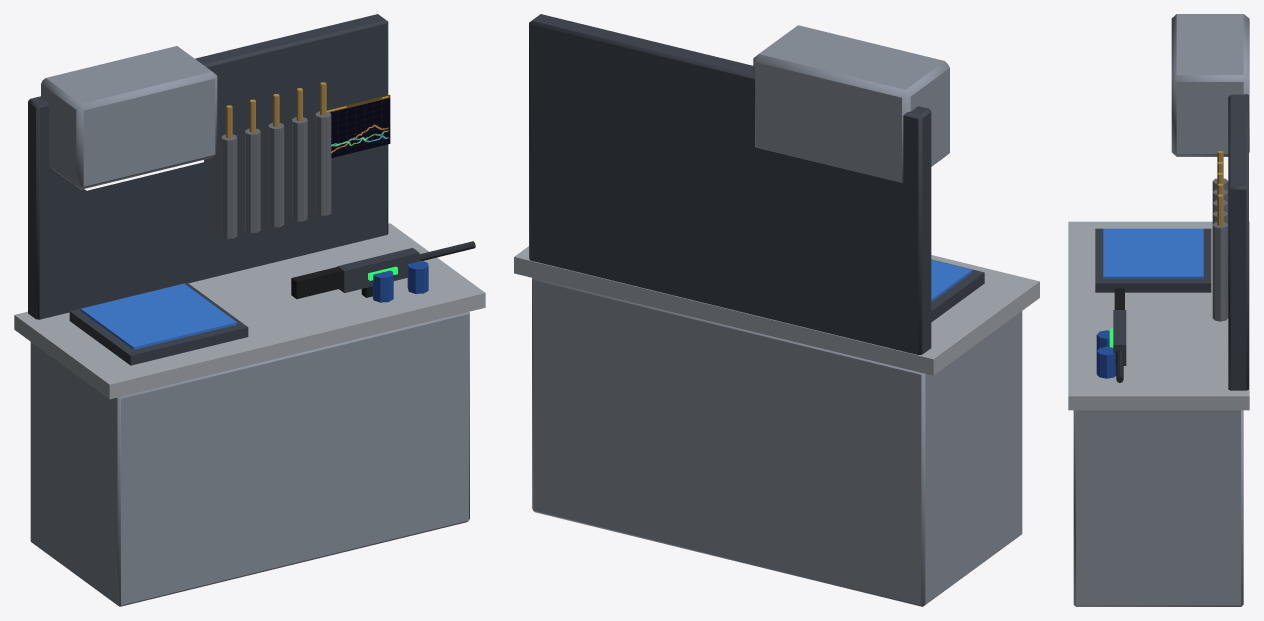
Rendered from weaponrack_gun_cleaning_station.glb.
3 renders of one model, left to right at view 1: azimuth 30°, elevation 25°; view 2: azimuth 150°, elevation 25°; view 3: azimuth 270°, elevation 25°, orthographic. The views are drawn at different scales.
Visible parts, largest first — view 1: weaponrack_gun_cleaning_station; view 2: weaponrack_gun_cleaning_station; view 3: weaponrack_gun_cleaning_station.
Part boxes in pixels (x1,y1,x2,y2): weaponrack_gun_cleaning_station: (14,14,485,606); weaponrack_gun_cleaning_station: (514,14,1039,606); weaponrack_gun_cleaning_station: (1068,14,1249,606).
Size of the model in its own units: 1.67 by 1.88 by 0.703.
13 materials, 1 textured.
